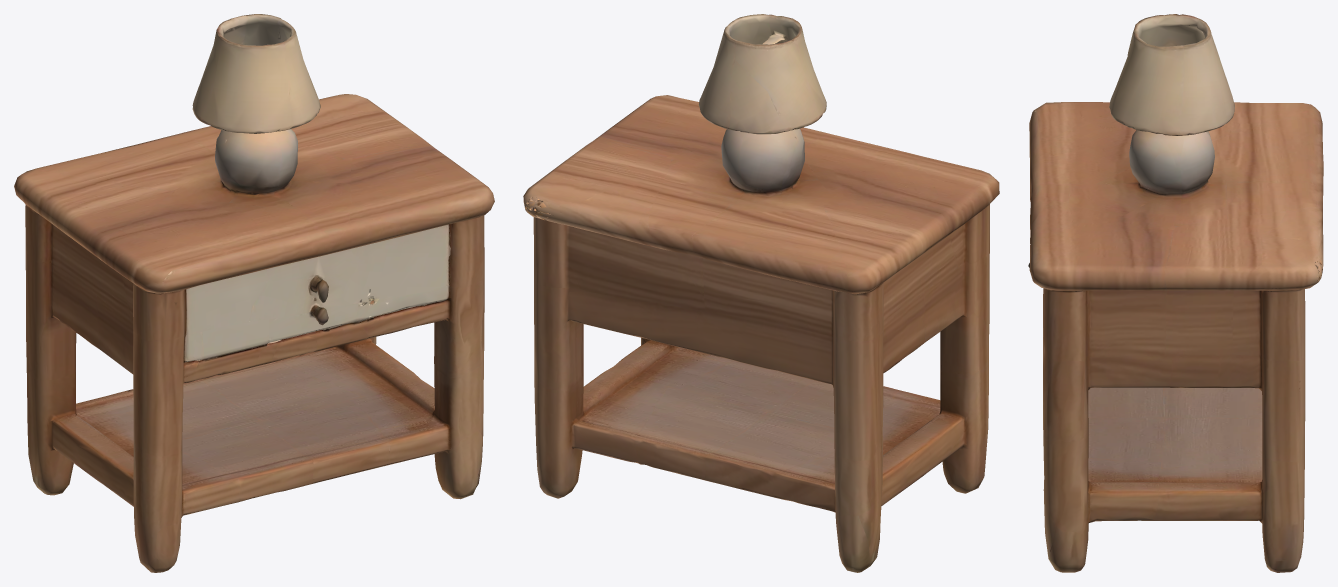
Rendered from nightstand.glb.
3 renders of one model, left to right at view 1: azimuth 30°, elevation 25°; view 2: azimuth 150°, elevation 25°; view 3: azimuth 270°, elevation 25°, orthographic.
Bounding box in the file's own units: 1.59 × 2 × 1.15.
Materials: 1 (1 with a texture image).
